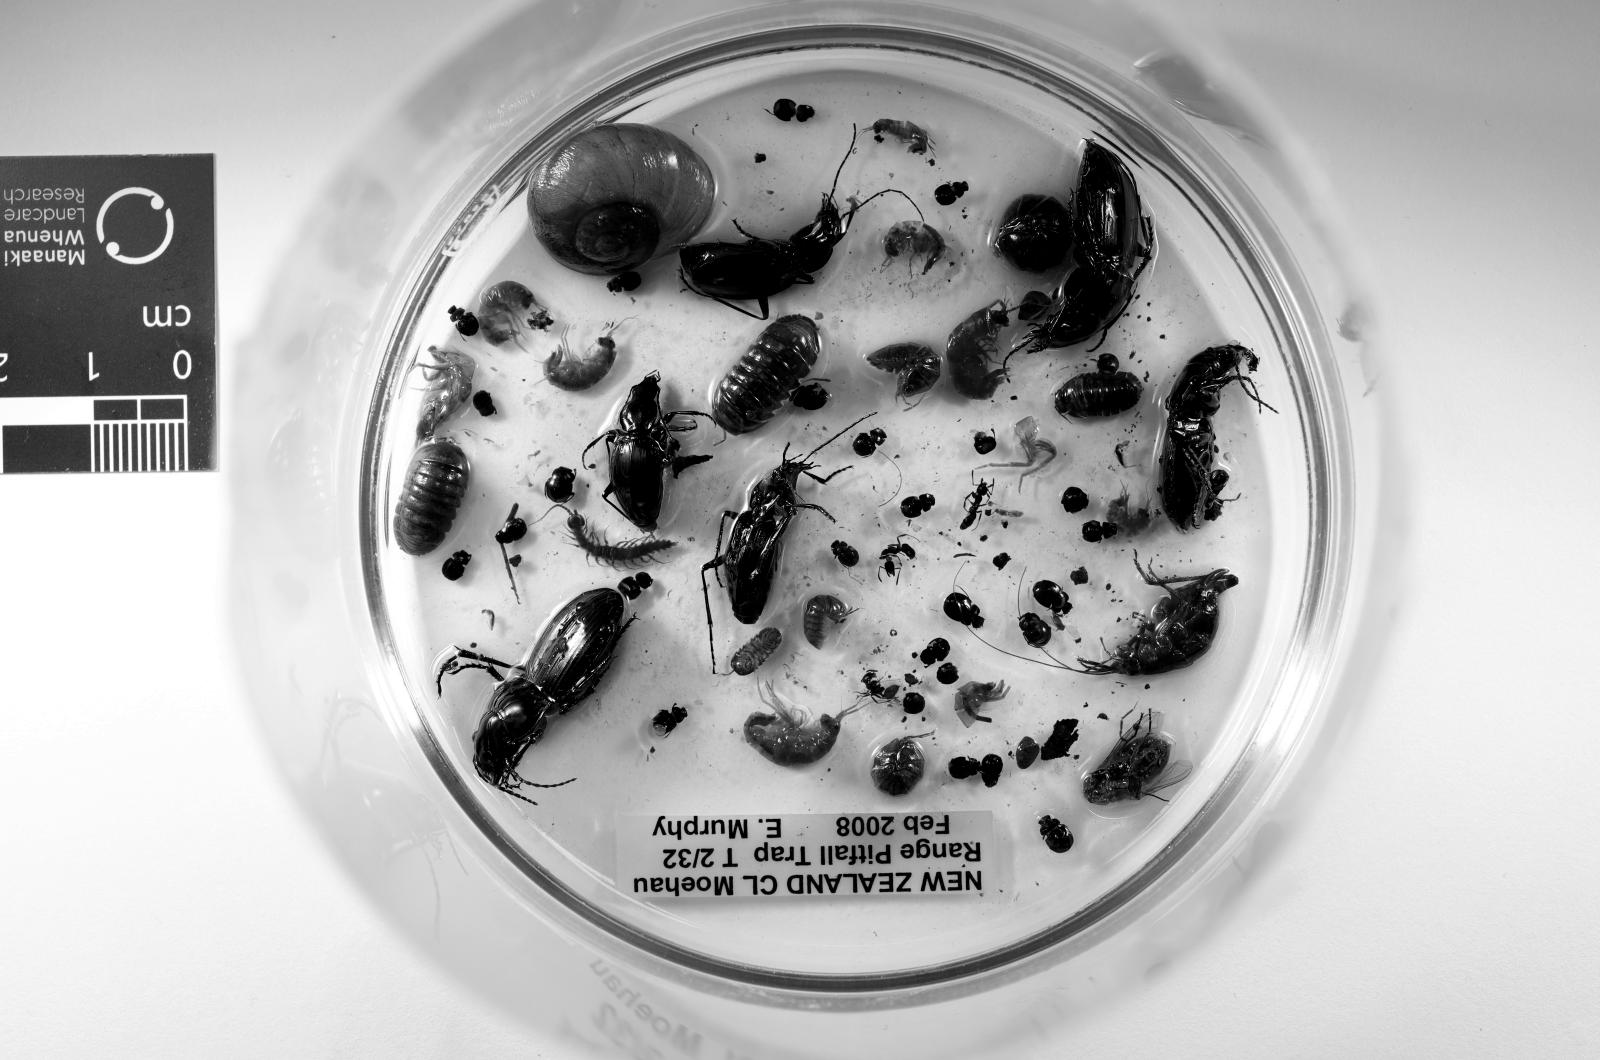amphipoda: (744, 684, 862, 767), (947, 302, 1010, 401), (415, 344, 475, 447), (544, 332, 616, 392), (478, 283, 535, 344), (885, 220, 947, 273), (1106, 487, 1153, 537), (872, 118, 931, 155)
carabidae: (438, 587, 634, 799), (1010, 140, 1153, 357), (675, 174, 869, 319), (704, 447, 850, 625), (1159, 344, 1269, 531), (597, 373, 704, 531)
chilopoda: (563, 506, 675, 571)
coleoptera: (1037, 814, 1075, 854), (944, 593, 984, 627), (1031, 581, 1071, 615), (1018, 612, 1054, 649), (544, 466, 575, 503), (653, 705, 687, 736), (494, 516, 529, 547), (791, 382, 828, 409), (853, 428, 887, 457), (618, 571, 653, 600), (441, 550, 472, 581), (772, 99, 816, 121), (919, 636, 950, 665), (447, 308, 478, 336), (978, 755, 1003, 789), (900, 493, 934, 518), (934, 180, 969, 205), (1081, 522, 1119, 543), (831, 541, 860, 568), (607, 270, 641, 292), (950, 757, 978, 780), (472, 392, 497, 416)
diptera: (1081, 711, 1191, 807), (1041, 615, 1078, 636)
formicidae: (959, 481, 993, 531), (879, 541, 915, 577), (862, 671, 900, 705)
gastropoda: (529, 124, 715, 273)
isopoda: (713, 314, 822, 435), (394, 438, 468, 556), (993, 195, 1071, 273), (866, 342, 940, 397), (1054, 373, 1141, 419), (872, 736, 925, 795), (731, 627, 782, 677), (803, 596, 850, 649)
orthoptera: (1078, 552, 1237, 674)
